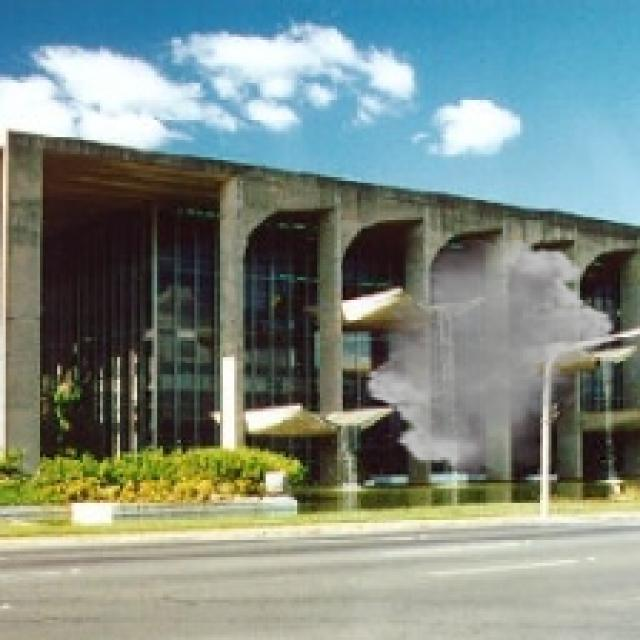smoke: (363, 234, 617, 477)
